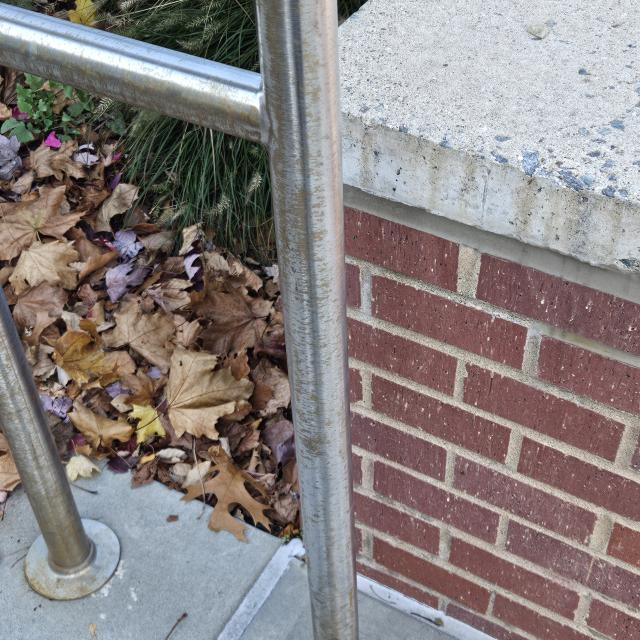Uniform Corrosion: (1, 1, 359, 640)
